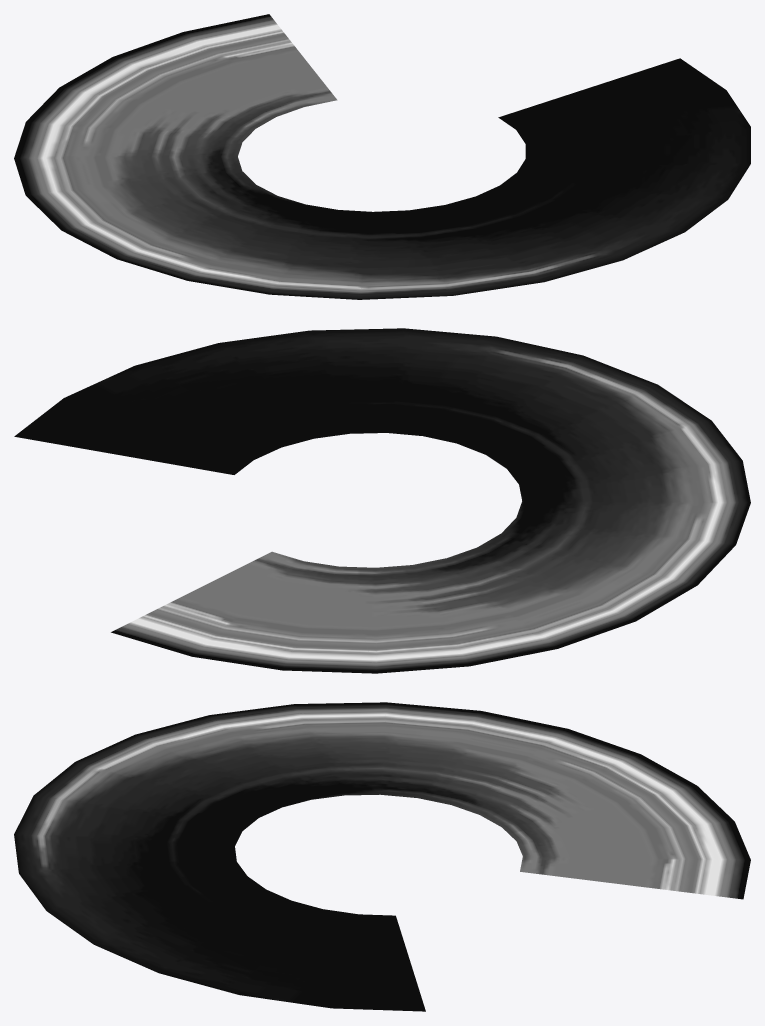
File: Mesh_daopian_407.FBX
3 views of the same model, one above another, from view 1: azimuth 30°, elevation 25°; view 2: azimuth 150°, elevation 25°; view 3: azimuth 270°, elevation 25° (orthographic). The views are drawn at different scales.
Visible parts, largest first — view 1: daopian407; view 2: daopian407; view 3: daopian407.
Boxes of the visible parts, x1,y1,x2,y2 form: daopian407: (14,14,750,299); daopian407: (14,328,750,673); daopian407: (14,702,750,1011).
Bounding box in the file's own units: 272 × 9 × 272.
Materials: 1 (1 with a texture image).
